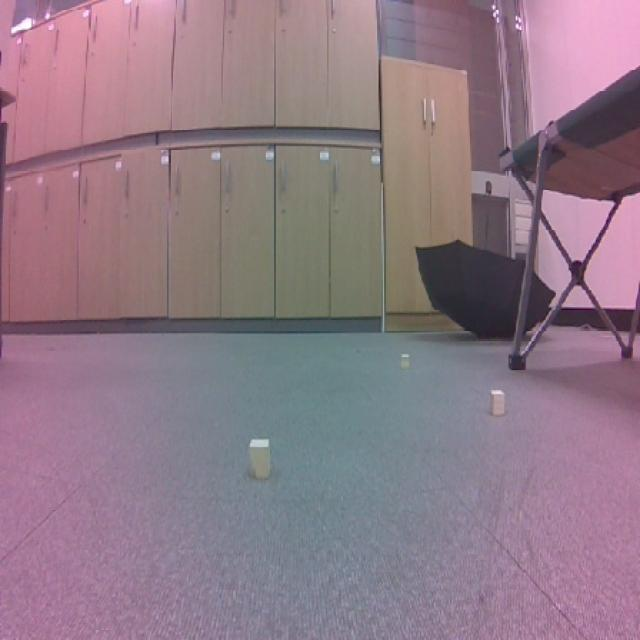obstacle: (242, 424, 284, 493), (486, 384, 512, 426)
